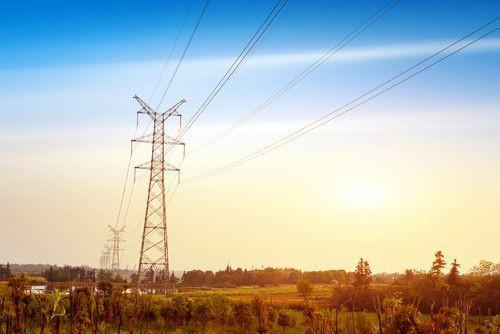power_tower: (128, 93, 189, 286), (107, 222, 129, 280)
